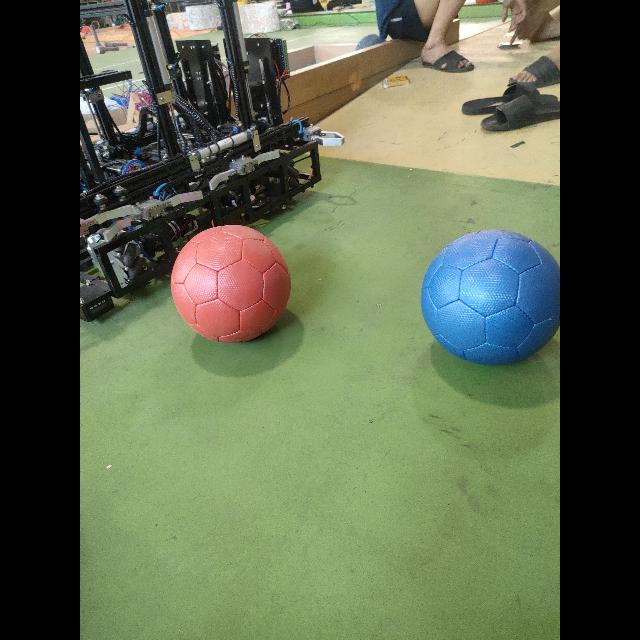B: (421, 230, 559, 365)
R: (171, 225, 290, 342)
